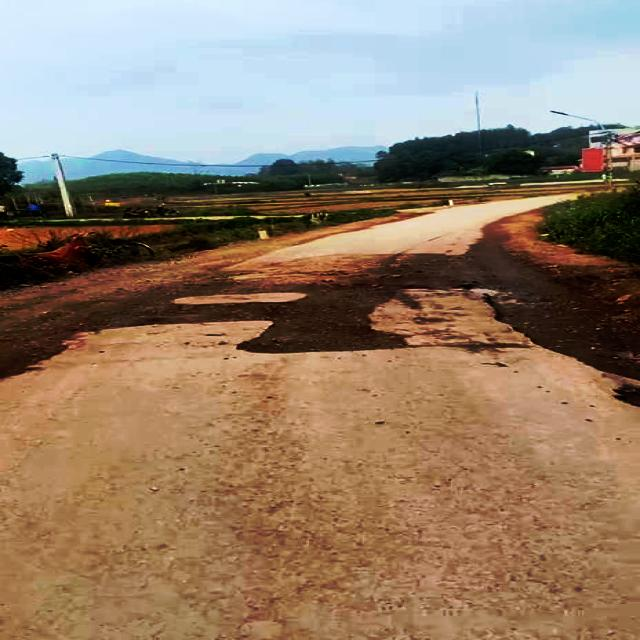pothole: (246, 292, 408, 353)
